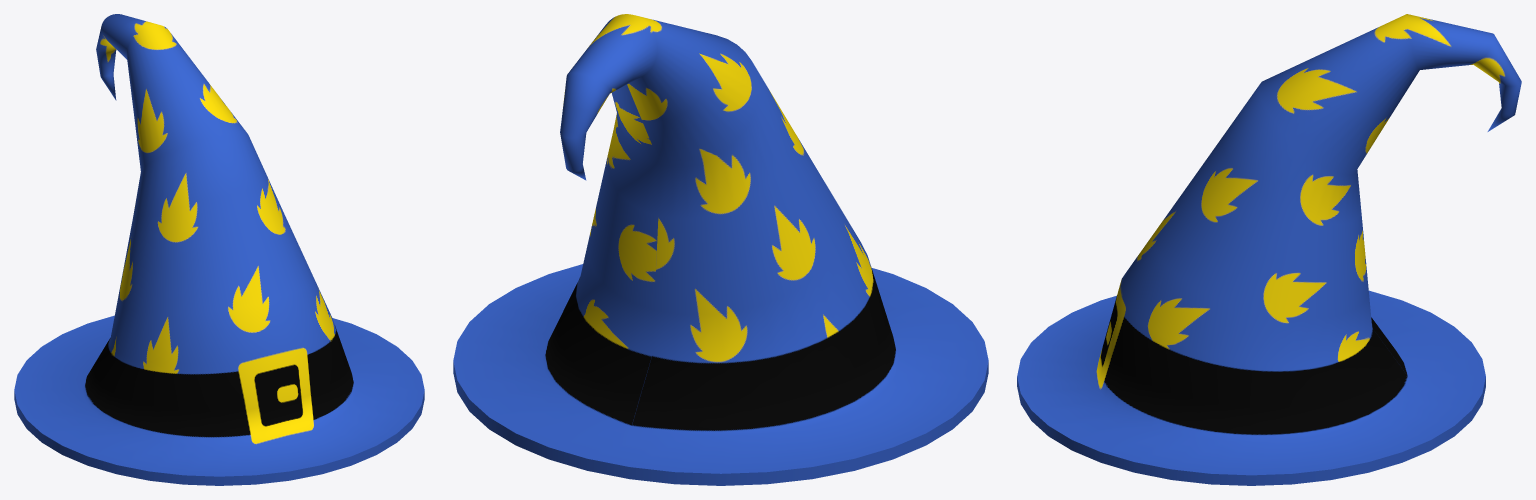
The model's file is SpellcastersHatMesh.fbx.
The picture shows the model from 3 angles, left to right: view 1: azimuth 30°, elevation 25°; view 2: azimuth 150°, elevation 25°; view 3: azimuth 270°, elevation 25°; orthographic projection. The views are drawn at different scales.
Visible parts, largest first — view 1: SpellcasterHatMesh; view 2: SpellcasterHatMesh; view 3: SpellcasterHatMesh.
Part boxes in pixels (x1=…): SpellcasterHatMesh: x1=14, y1=14, x2=424, y2=485; SpellcasterHatMesh: x1=453, y1=14, x2=988, y2=485; SpellcasterHatMesh: x1=1017, y1=14, x2=1521, y2=485.
Size of the model in its own units: 0.004 by 0.00349 by 0.00431.
1 material, 1 textured.
